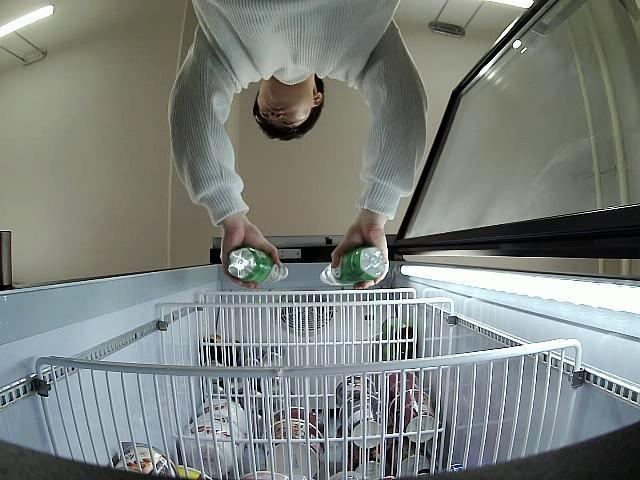18_trevi: (318, 246, 386, 284), (227, 246, 289, 286)
